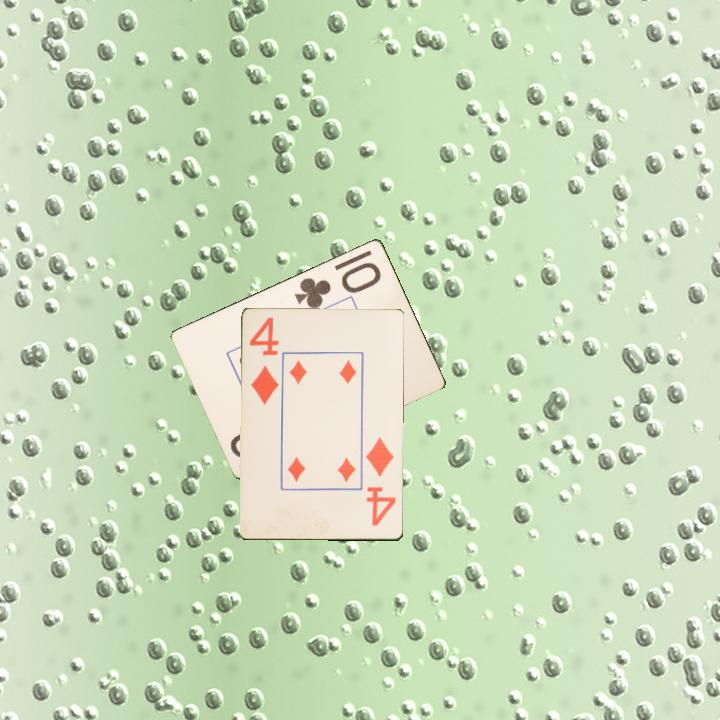10c: (291, 258, 384, 311)
4d: (362, 434, 399, 529), (246, 314, 282, 408)
